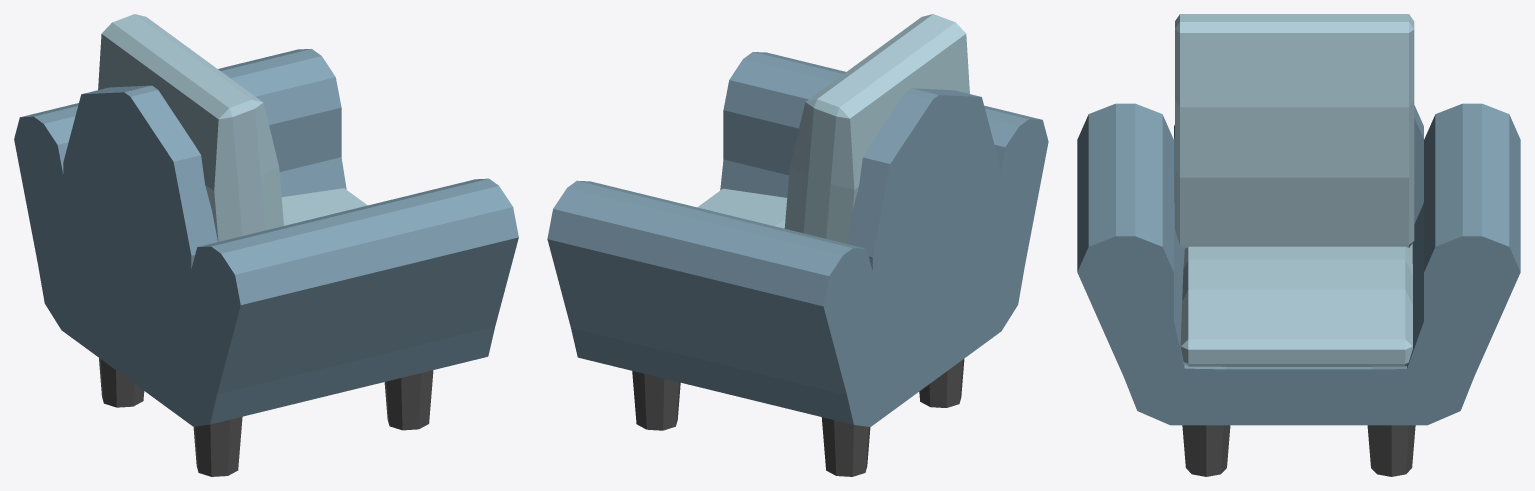
Rendered from Armchair_3.fbx.
3 views of the same model, side by side, from view 1: azimuth 30°, elevation 25°; view 2: azimuth 150°, elevation 25°; view 3: azimuth 270°, elevation 25° (orthographic). The views are drawn at different scales.
Parts seen in each view (by area): view 1: Armchair_3; view 2: Armchair_3; view 3: Armchair_3.
Part boxes in pixels (x1,y1,x2,y2): Armchair_3: (14,14,518,476); Armchair_3: (547,14,1048,476); Armchair_3: (1077,14,1520,476).
Size of the model in its own units: 98.54 by 139 by 126.
